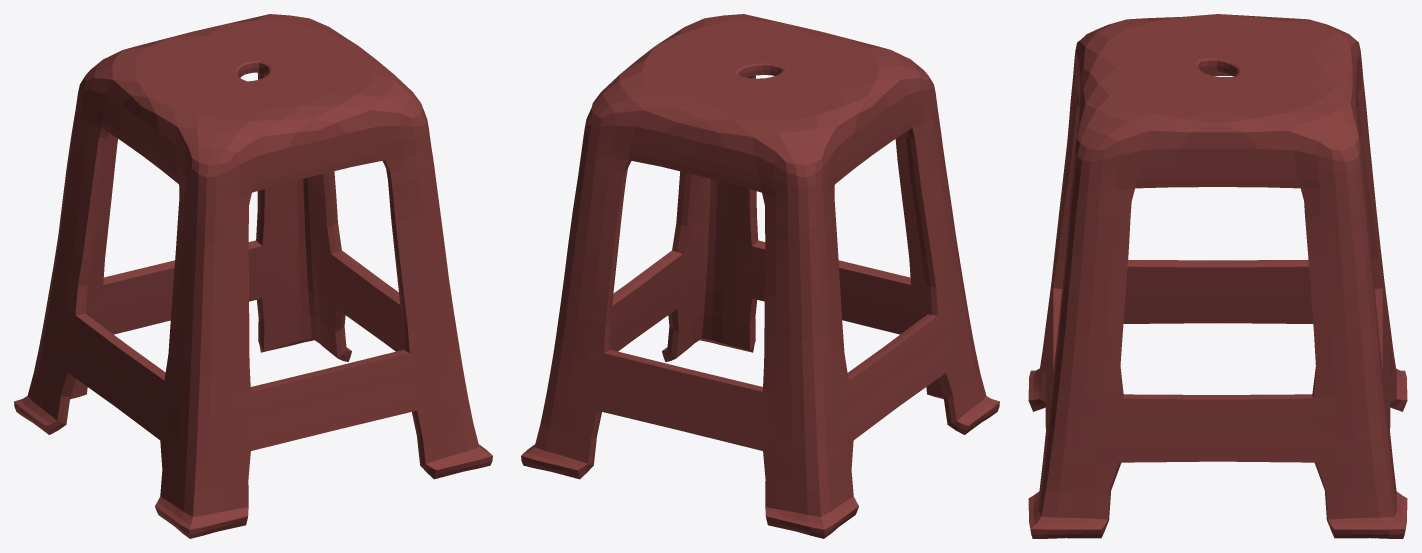
File: plastic_chair.glb
The picture shows the model from 3 angles, left to right: view 1: azimuth 30°, elevation 25°; view 2: azimuth 150°, elevation 25°; view 3: azimuth 270°, elevation 25°; orthographic projection. The views are drawn at different scales.
Visible parts, largest first — view 1: realscale; view 2: realscale; view 3: realscale.
Boxes of the visible parts, bbox=[...] form: realscale: bbox=[14, 14, 492, 538]; realscale: bbox=[521, 14, 999, 538]; realscale: bbox=[1028, 14, 1407, 538].
Bounding box in the file's own units: 0.7146 × 0.82 × 0.7163.
